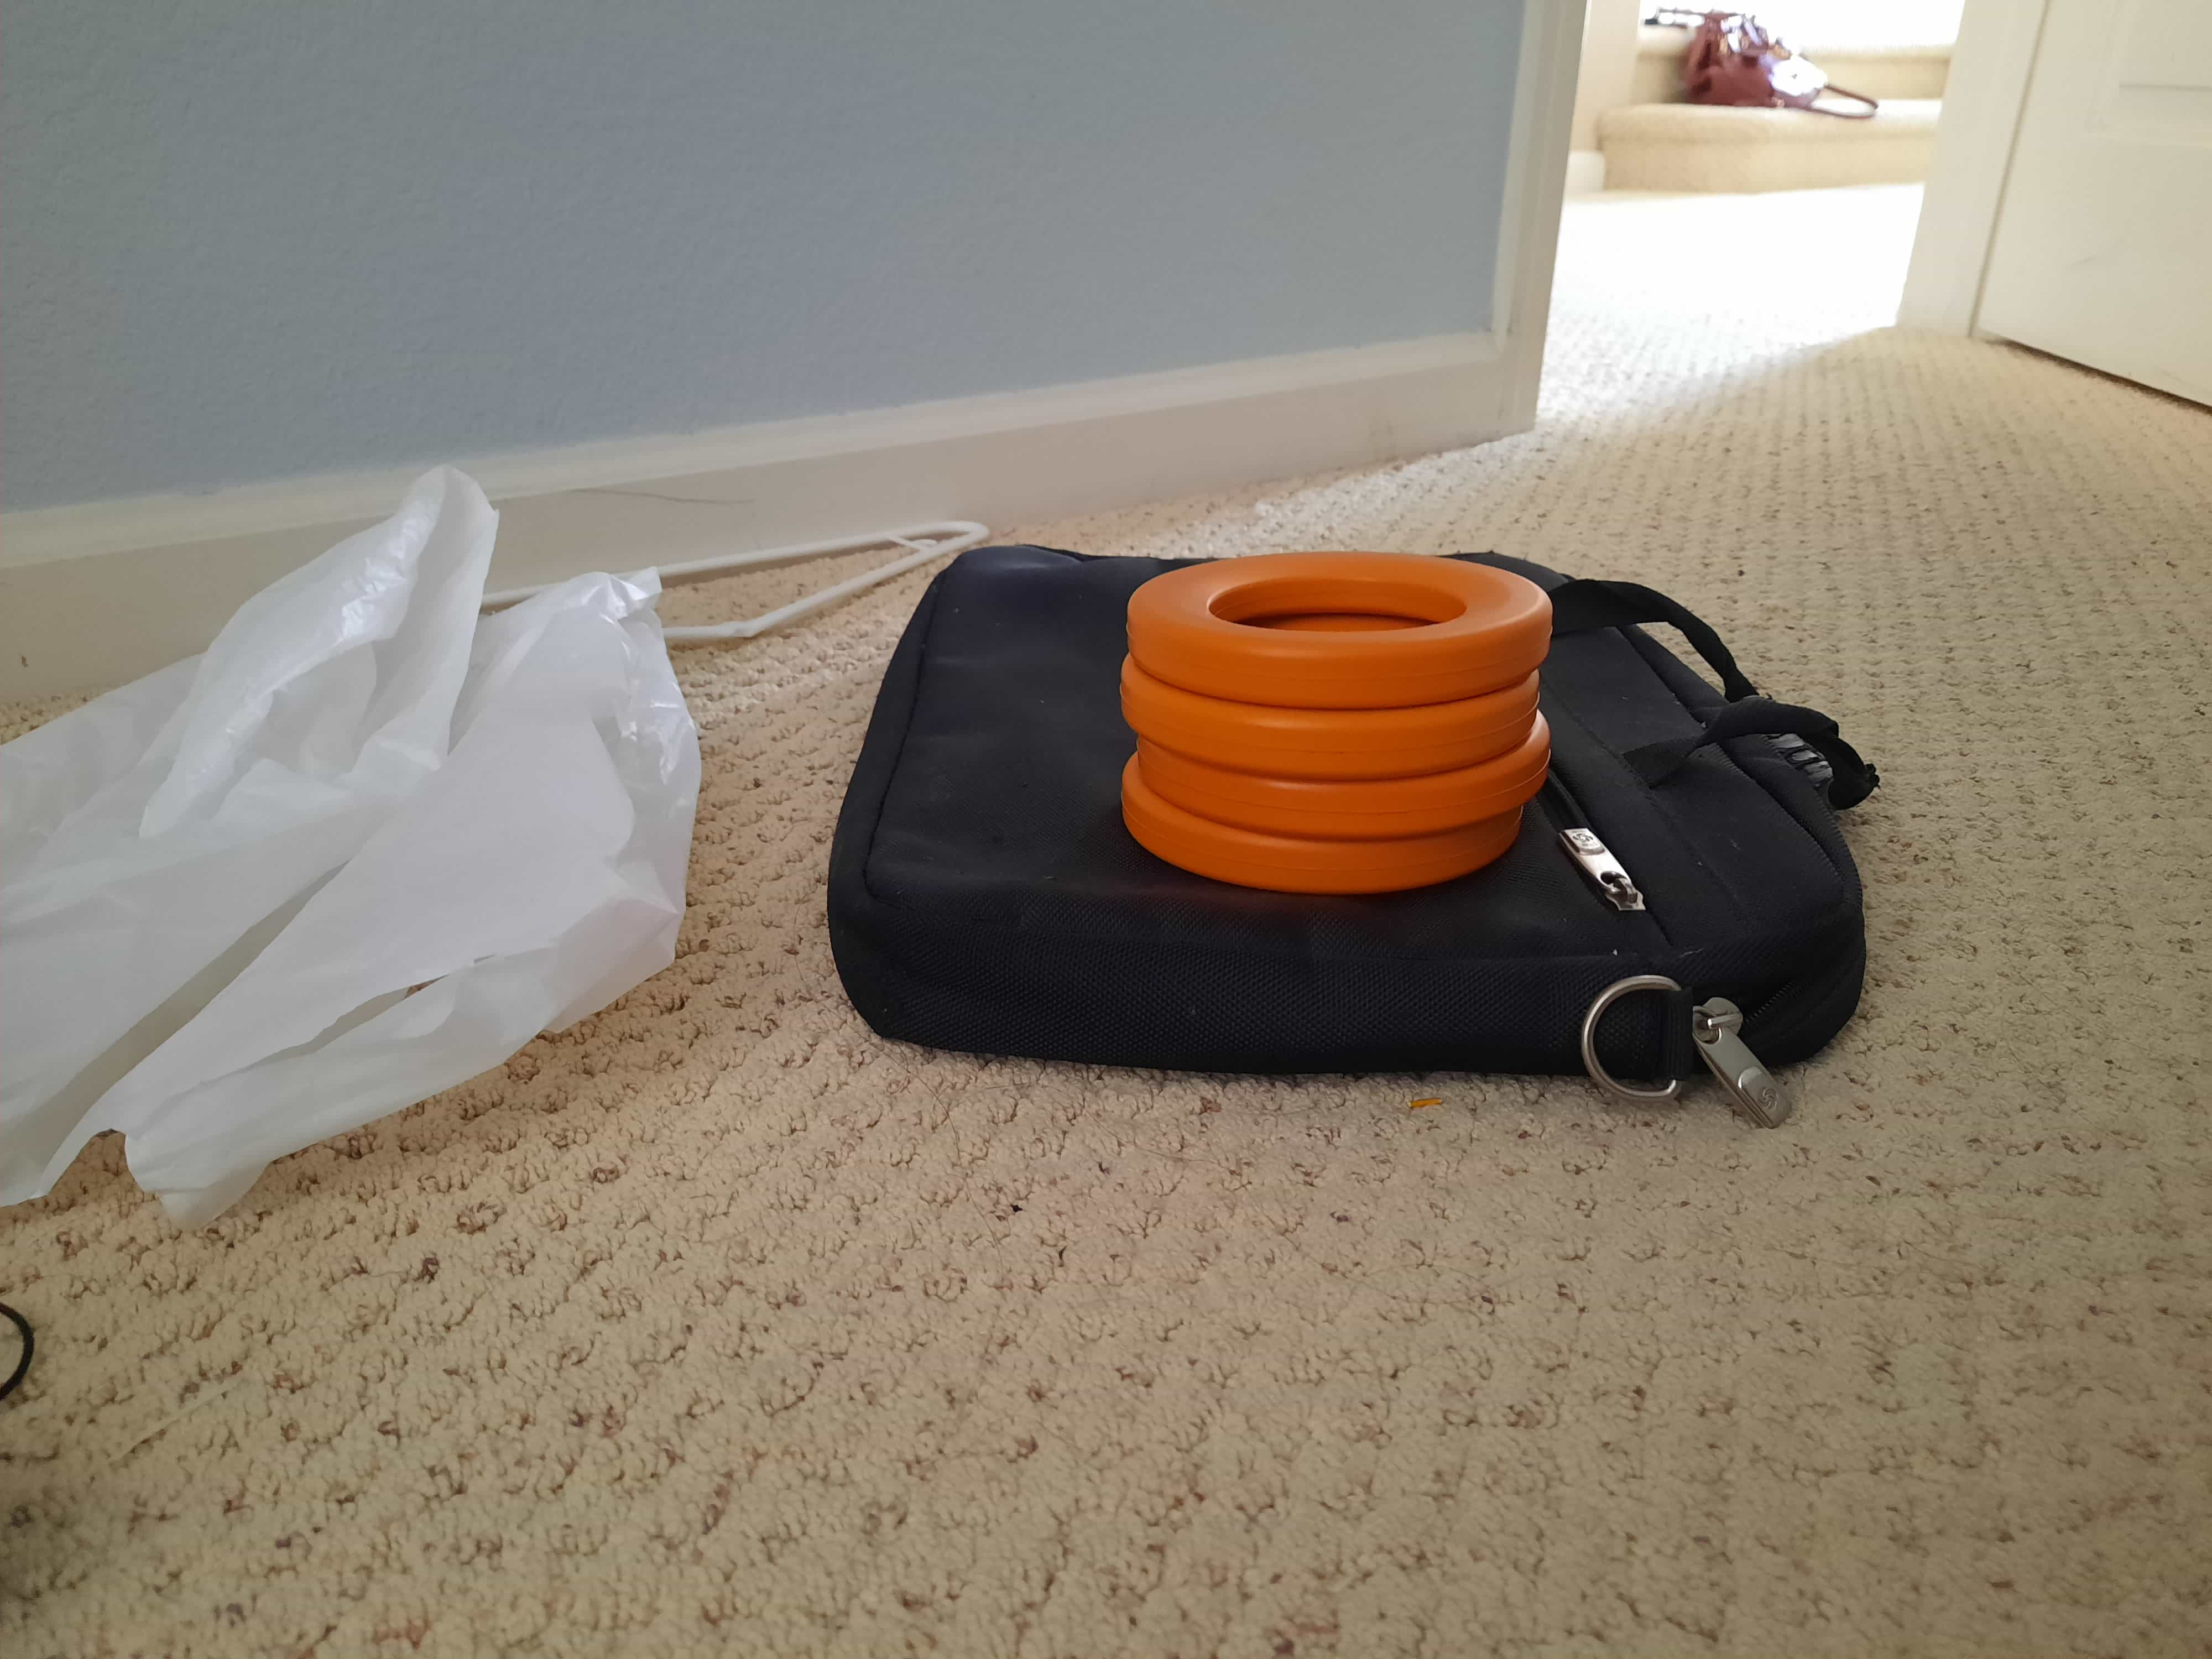FourStack: (1123, 556, 1548, 901)
